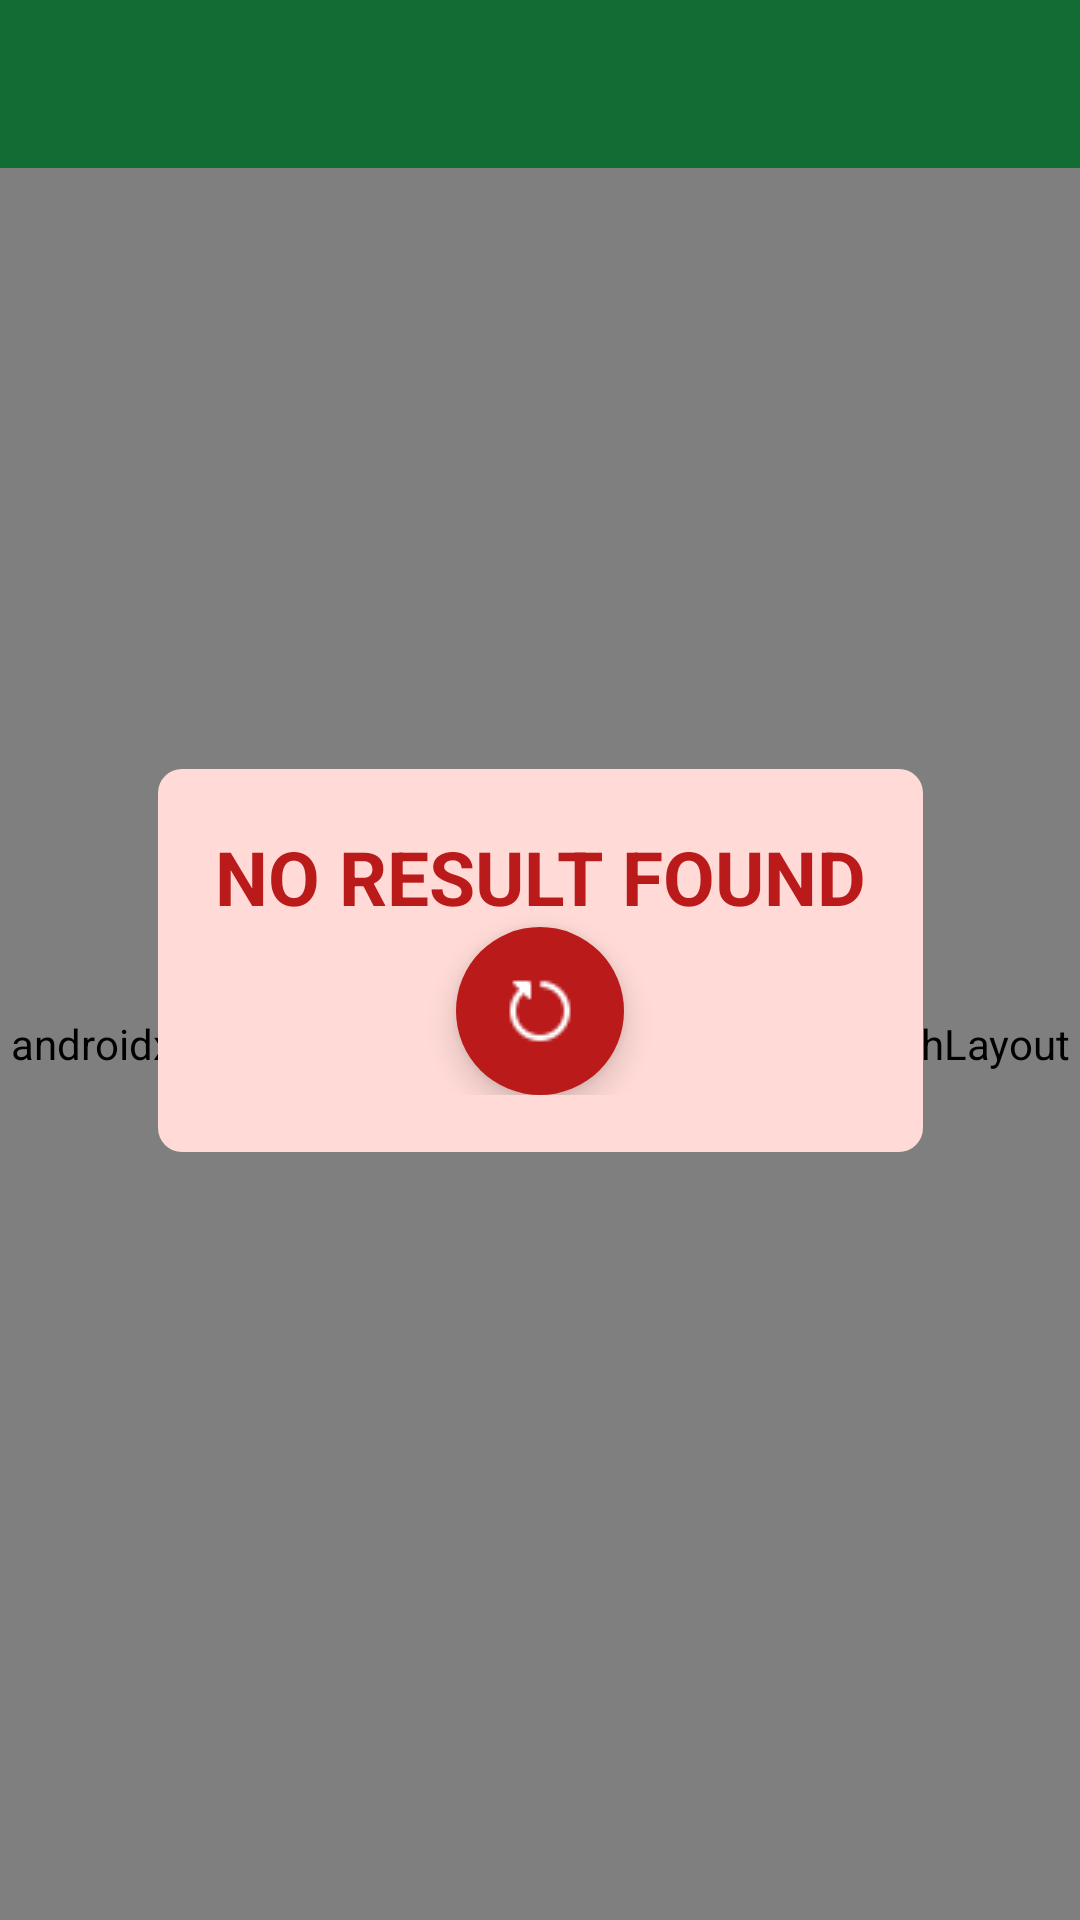

Icons on this 1080x1920 Android screen, each with its box as [x1,y1,x2,y2]:
Retry: [456,927,624,1095]
